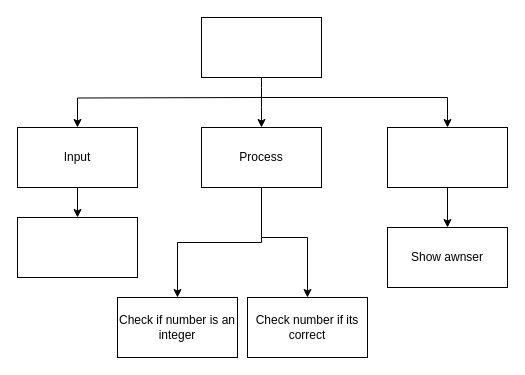
Some shapes in this 525 by 375 pixel diagram are drawn without their labels. Here are the shapes that lost their labels. From the top down, the centre of each, then its label:
the point at 261,47: Guess the number
the point at 447,157: Output
the point at 77,247: Guess a number between 0-9
